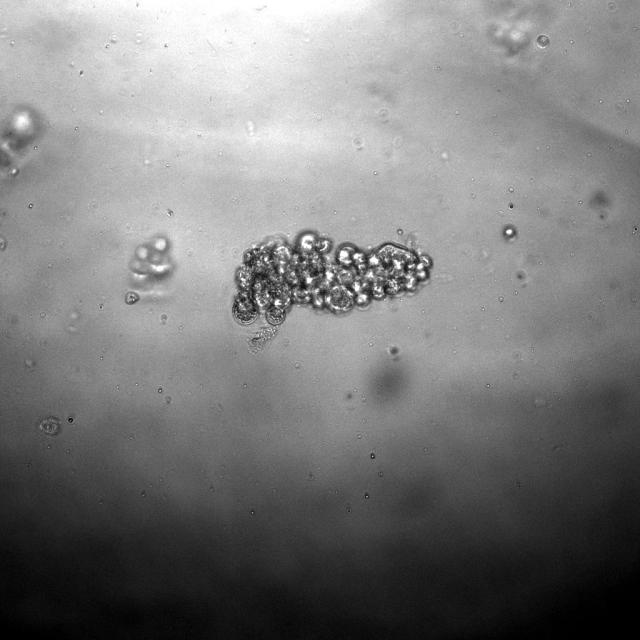organoid: (232, 230, 431, 358), (0, 105, 44, 177), (129, 234, 173, 296), (124, 291, 139, 304), (536, 34, 549, 48)
